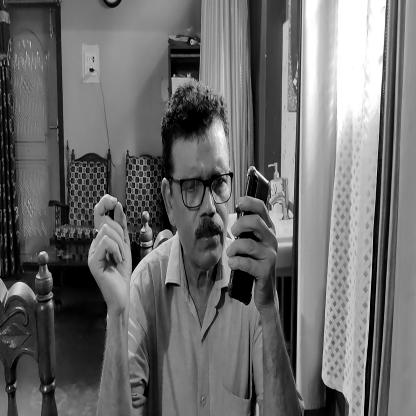Distracted: (157, 69, 234, 280)
